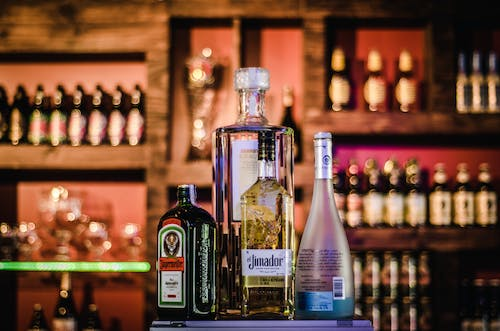alcohol: (211, 67, 295, 321), (295, 131, 355, 321), (156, 183, 218, 321), (362, 46, 392, 112), (392, 46, 422, 112), (326, 46, 355, 112), (279, 83, 302, 164), (51, 272, 80, 331), (404, 157, 427, 229), (45, 84, 72, 145), (474, 162, 498, 229), (427, 162, 451, 229), (451, 162, 474, 229), (122, 83, 146, 146), (383, 157, 404, 229), (362, 157, 383, 229), (86, 83, 110, 145), (27, 84, 51, 145), (106, 83, 129, 145), (67, 84, 90, 145), (344, 157, 362, 229), (10, 84, 31, 145), (469, 51, 486, 114), (454, 51, 469, 114), (469, 279, 487, 331), (398, 251, 418, 297), (332, 157, 344, 229), (363, 251, 381, 297), (487, 51, 500, 114), (24, 302, 51, 331), (382, 251, 398, 297), (418, 251, 434, 297), (80, 302, 105, 331), (398, 297, 418, 331), (487, 279, 500, 331), (363, 297, 381, 331), (0, 84, 10, 145), (351, 251, 363, 297), (418, 297, 434, 331), (382, 297, 398, 331), (355, 297, 363, 321)
